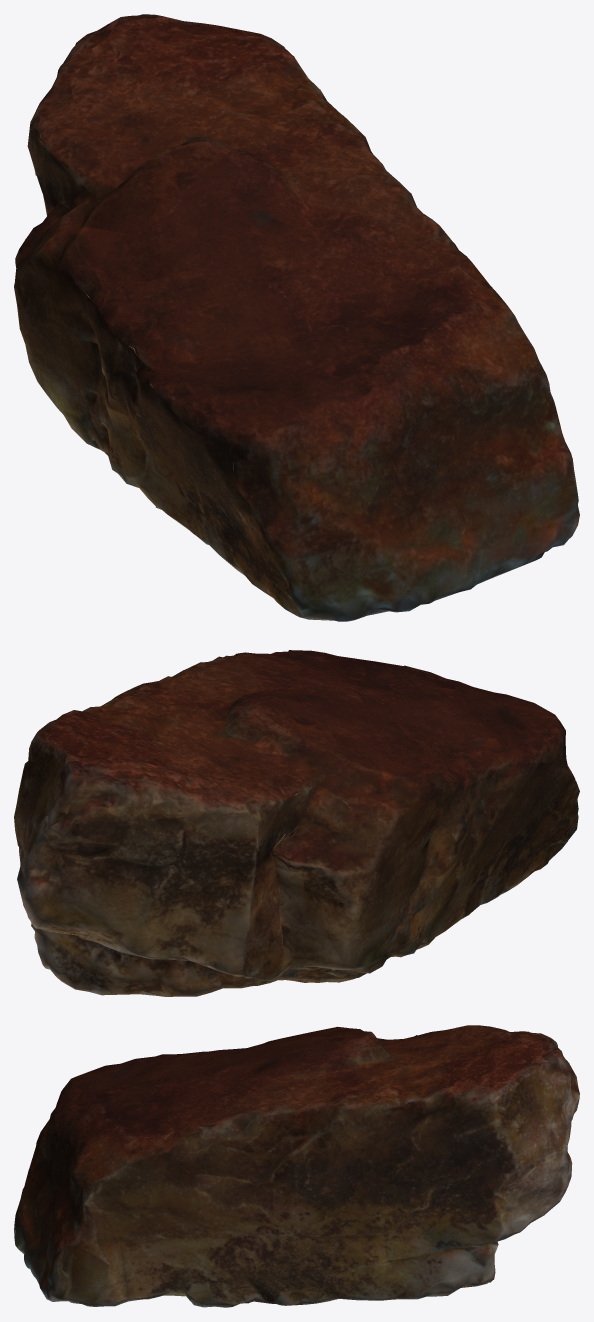
File: rock_07.glb
The picture shows the model from 3 angles, top to bottom: view 1: azimuth 30°, elevation 25°; view 2: azimuth 150°, elevation 25°; view 3: azimuth 270°, elevation 25°; orthographic projection. The views are drawn at different scales.
Parts seen in each view (by area): view 1: rock_07; view 2: rock_07; view 3: rock_07.
Part boxes in pixels (<box>): rock_07: <box>14,14,579,621</box>; rock_07: <box>14,650,579,996</box>; rock_07: <box>14,1025,579,1307</box>.
Bounding box in the file's own units: 0.1688 × 0.1438 × 0.3203.
Materials: 1 (1 with a texture image).
